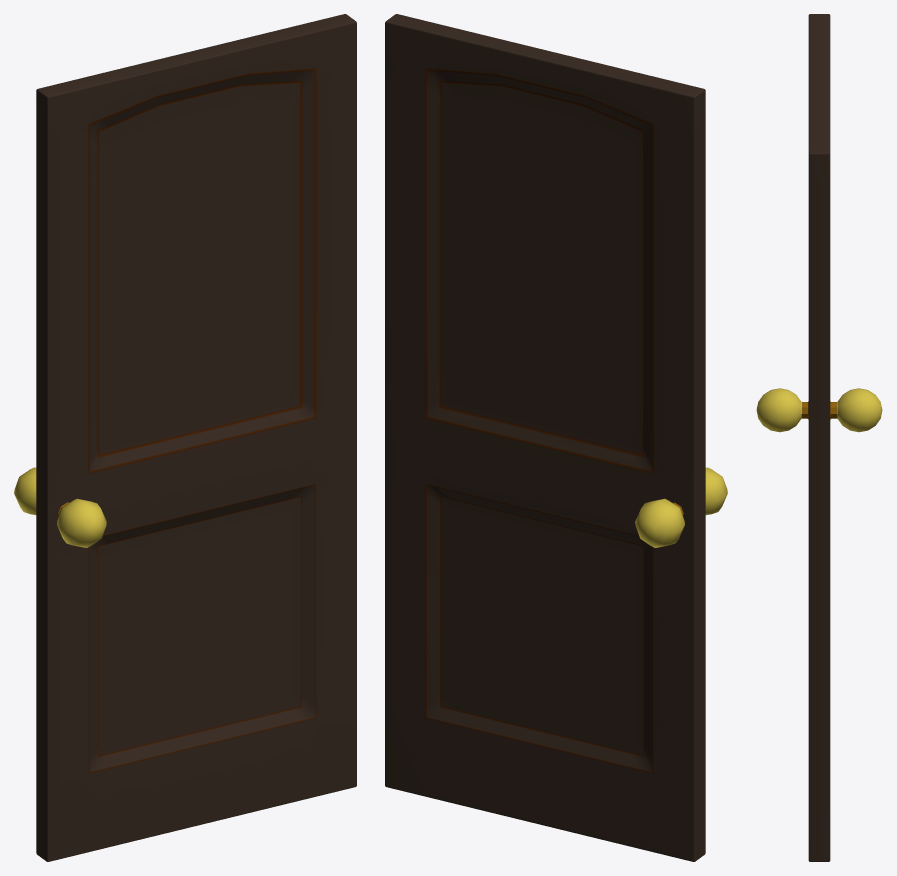
File: Door.fbx
The picture shows the model from 3 angles, left to right: view 1: azimuth 30°, elevation 25°; view 2: azimuth 150°, elevation 25°; view 3: azimuth 270°, elevation 25°; orthographic projection. The views are drawn at different scales.
Parts seen in each view (by area): view 1: pSphere4; view 2: pSphere4; view 3: pSphere4.
Part boxes in pixels (<box>): pSphere4: <box>14,14,356,861</box>; pSphere4: <box>385,14,727,861</box>; pSphere4: <box>756,14,882,861</box>.
Bounding box in the file's own units: 101 × 235 × 37.9.
Materials: 1 (1 with a texture image).
